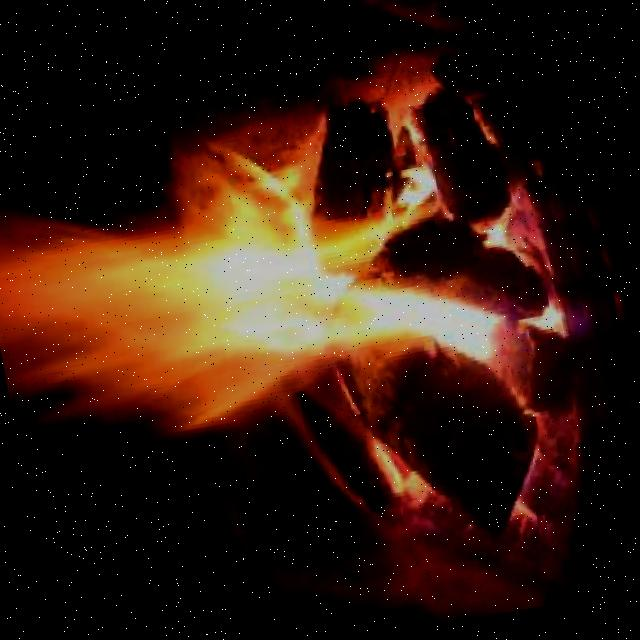fire: (0, 80, 517, 455)
